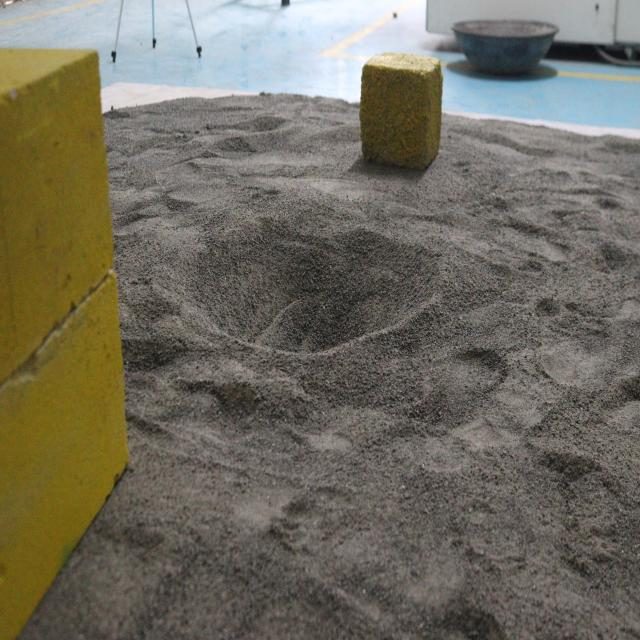box: (361, 52, 442, 176)
crater: (165, 197, 433, 391)
